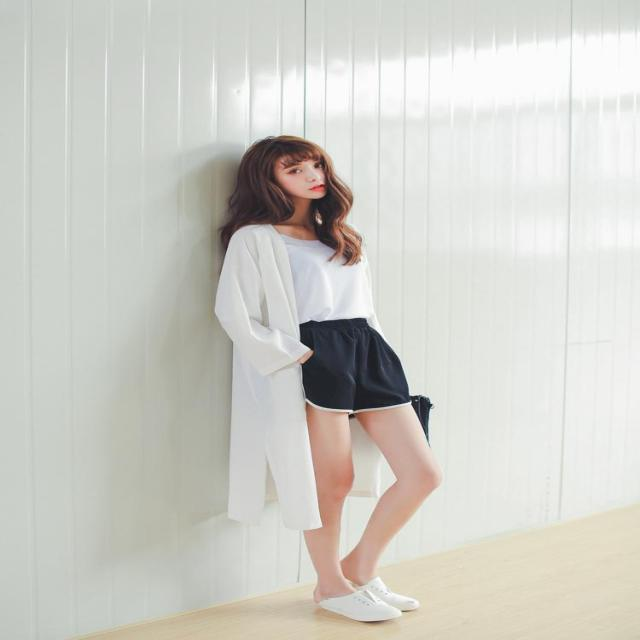long sleeve outwear: (228, 357, 321, 528), (222, 218, 297, 358)
short sleeve top: (224, 220, 371, 325)
shorts: (288, 317, 414, 414)
